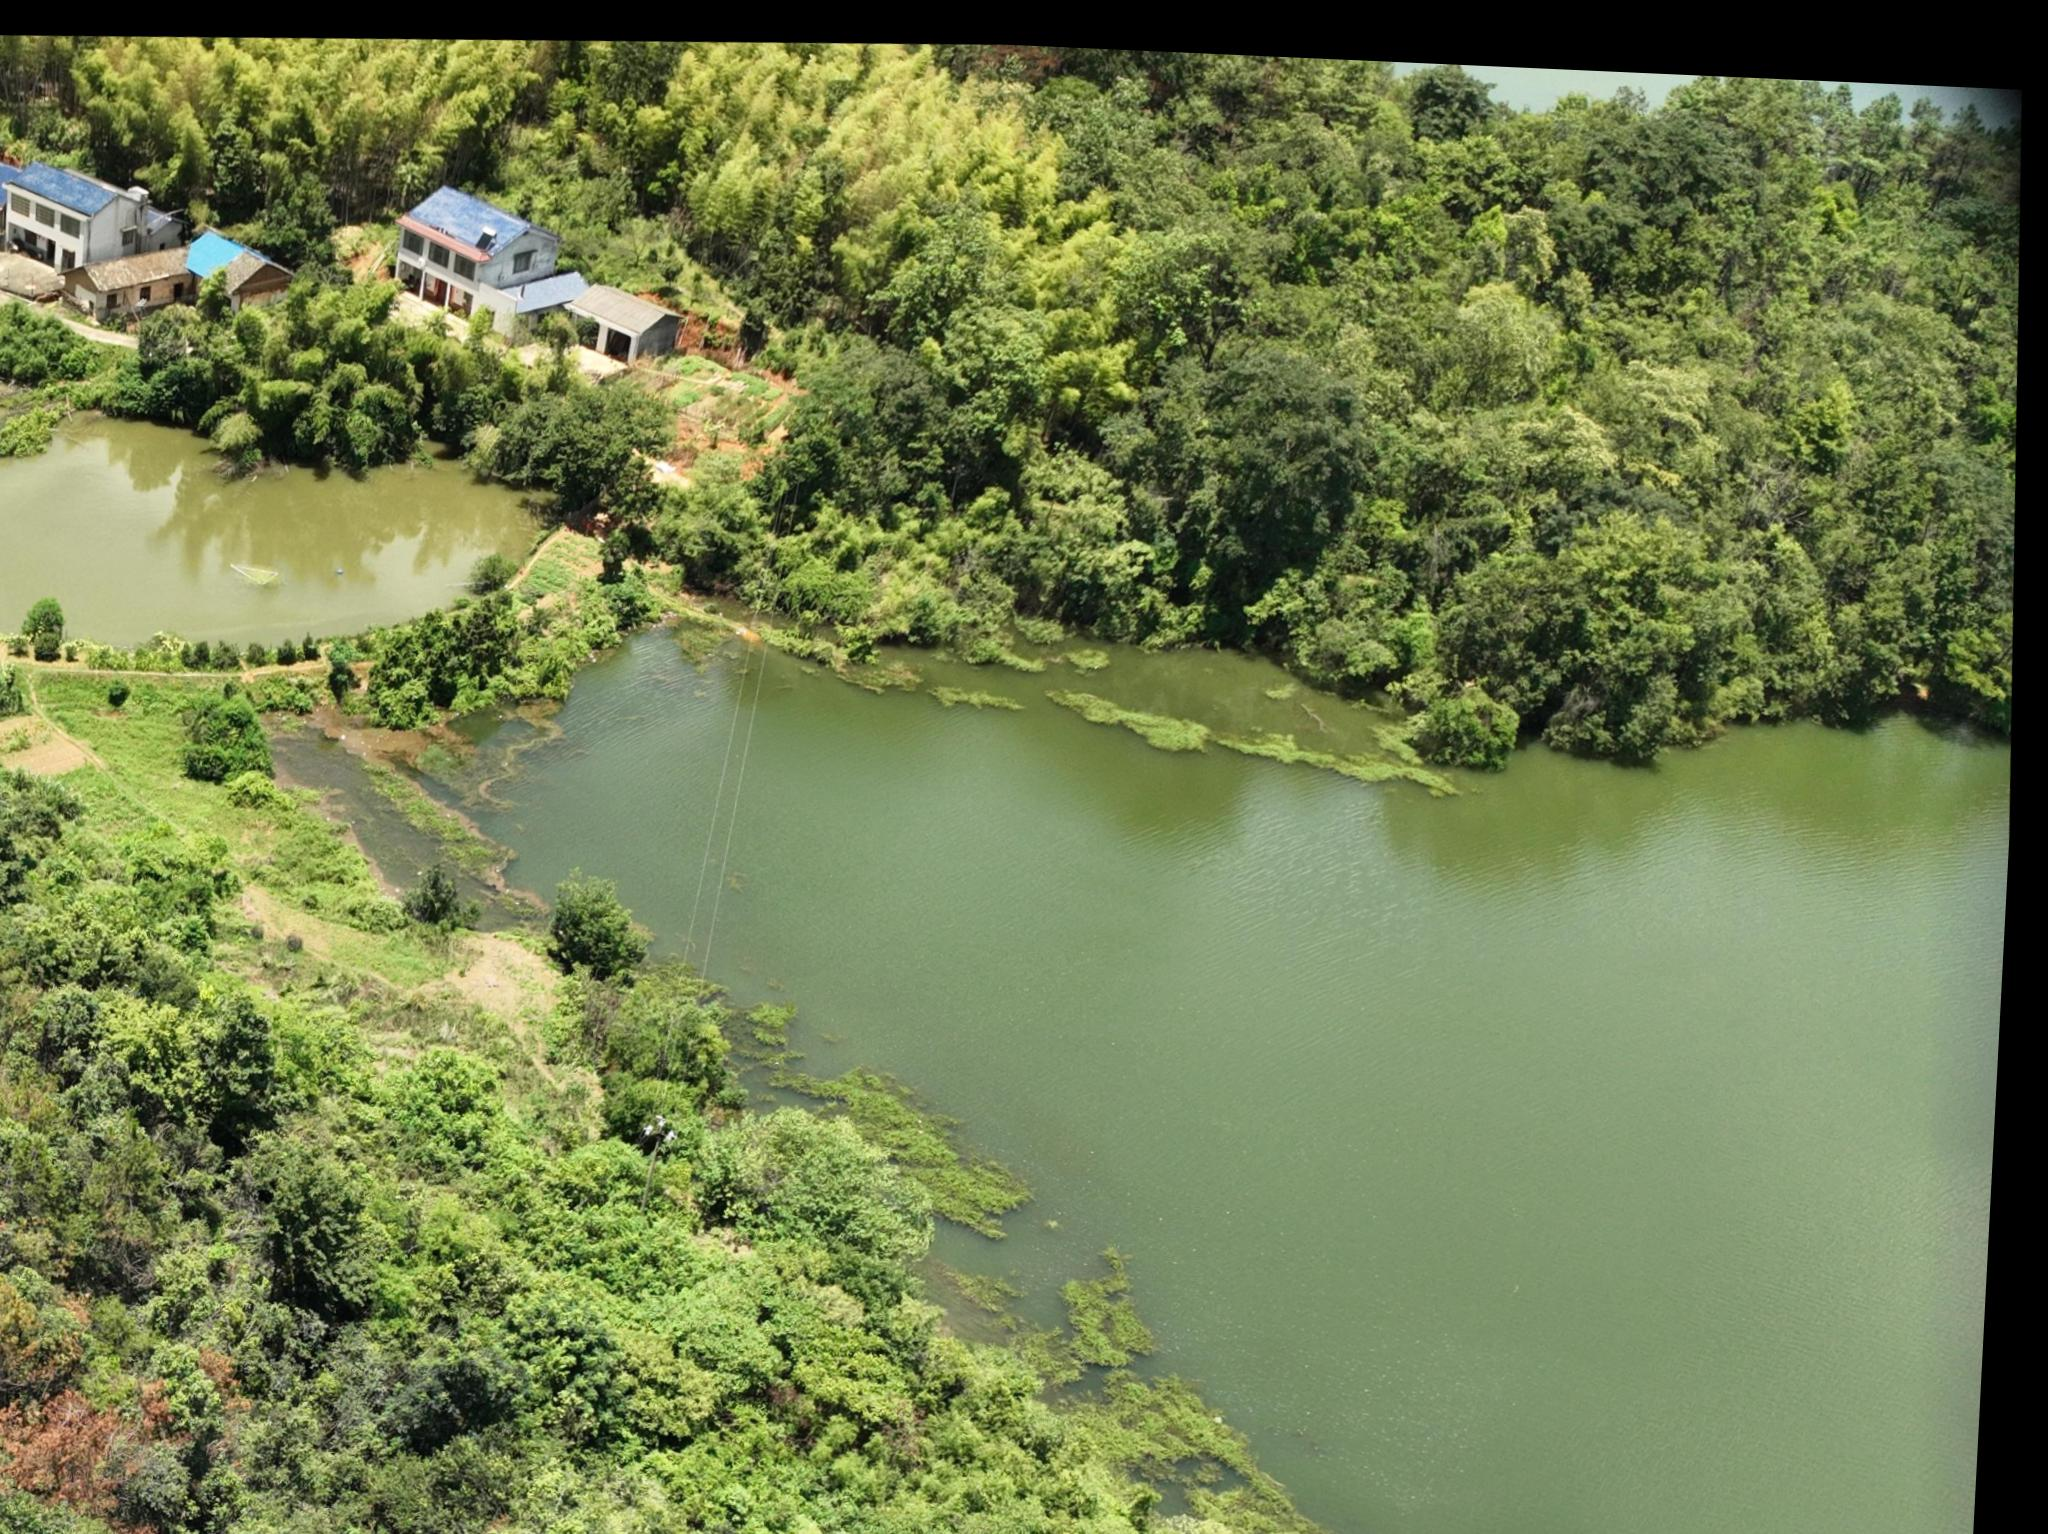heavy: (0, 1370, 197, 1534)
light: (0, 1265, 105, 1373)
